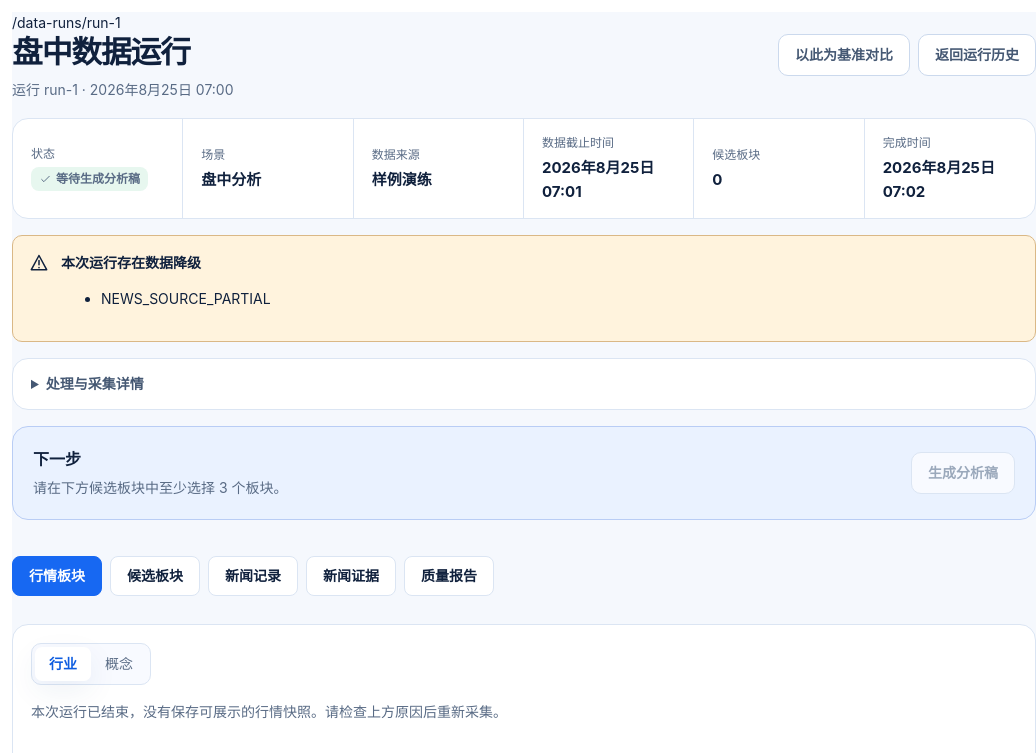
Test: collapses completed processing while leaving downgrade alerts visible
expect the message shows "NEWS_SOURCE_PARTIAL": met, box top-left (101, 290), bottom-right (271, 307)
Click the heading "处理与采集详情" at (95, 383), box top-left (46, 375), bottom-right (144, 392)
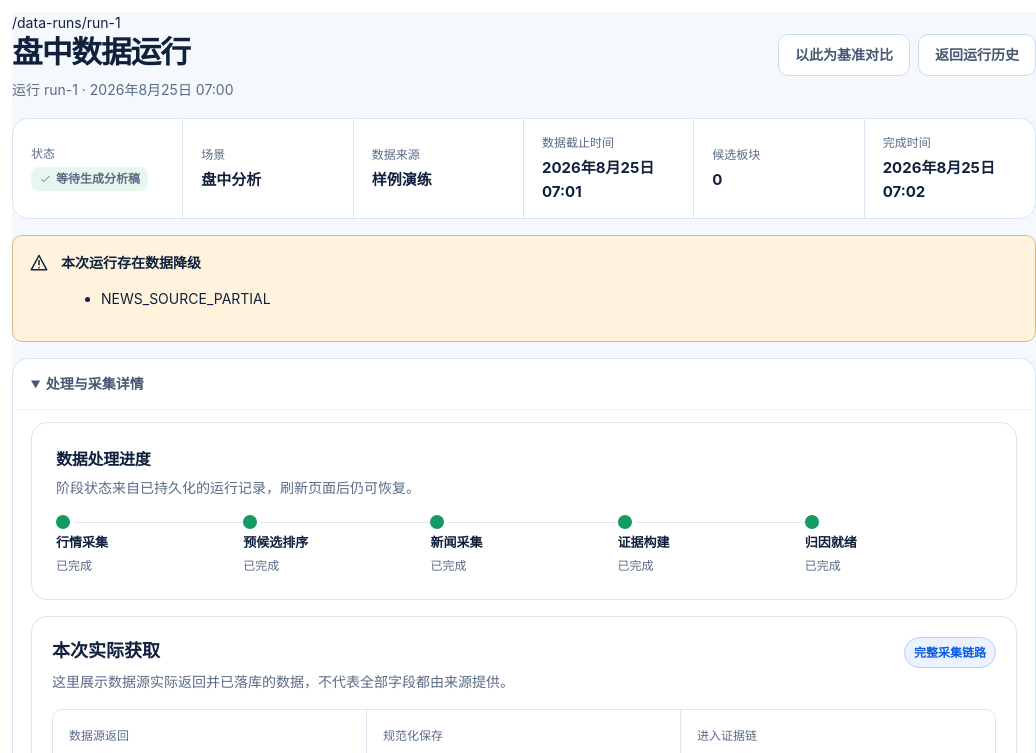
expect the heading "数据处理进度" is shown: met, box top-left (56, 449), bottom-right (151, 469)
